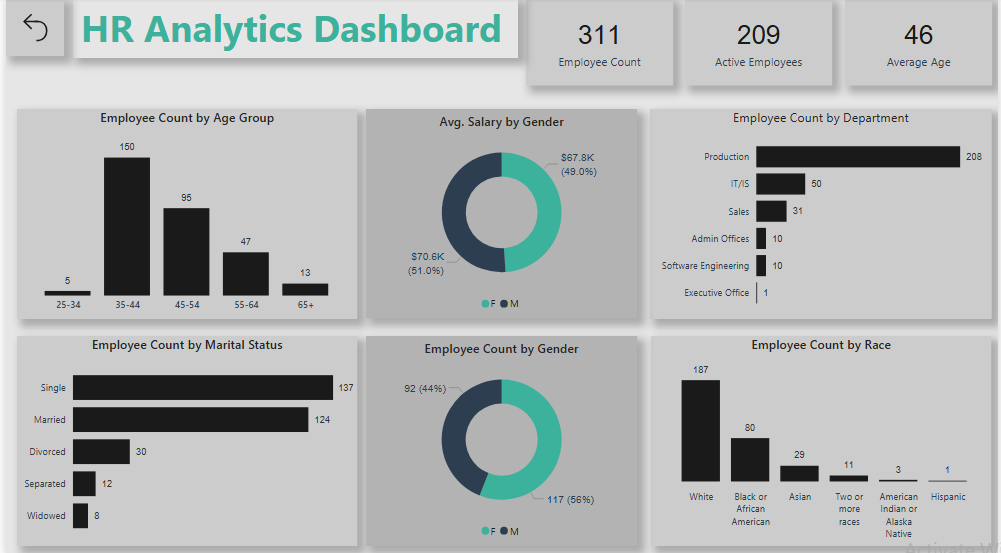

This screenshot's page, from the dashboard's own definition file:
{"tool":"powerbi","page":{"name":"Workforce","canvas":[1280,720],"ordinal":0},"visuals":[{"type":"card","fields":{"Values":["CountNonNull(Employee Info.EmpID)"]},"box":[670.4,0,190,113.4],"z":0},{"type":"clusteredBarChart","title":"Employee Count by Marital Status","fields":{"Category":["Employee Info.MaritalDesc"],"Y":["Measure Table.Total Employees"]},"box":[14.2,436.5,439.4,270.7],"z":1000},{"type":"card","fields":{"Values":["CountNonNull(Employee Info.EmpID)"]},"box":[876.6,0,190,113.4],"z":3000},{"type":"clusteredColumnChart","title":"Employee Count by Race","fields":{"Category":["Employee Info.RaceDesc"],"Y":["Measure Table.Total Employees"]},"box":[832,436.5,439.4,270.7],"z":4000},{"type":"donutChart","title":"Employee Count by Gender","fields":{"Category":["Employee Info.Sex"],"Y":["Measure Table.Total Employees"]},"box":[464.9,436.5,350.1,270.7],"z":5000},{"type":"card","fields":{"Values":["Avg(Employee Info.Age)"]},"box":[1082.8,0,190,113.4],"z":6000},{"type":"textbox","box":[86.5,0,574,76.5],"z":7000},{"type":"clusteredBarChart","title":"Employee Count by Department","fields":{"Category":["Department.Department"],"Y":["CountNonNull(Fact Table.EmpID)"]},"box":[830.6,143.1,440.8,270.7],"z":7001},{"type":"clusteredColumnChart","title":"Employee Count by Age Group","fields":{"Category":["Employee Info.Age Group"],"Y":["CountNonNull(Fact Table.EmpID)"]},"box":[14.2,143.1,439.4,270.7],"z":7002},{"type":"actionButton","title":"Clear All","box":[0,0,75.1,75],"z":7003},{"type":"donutChart","title":"Avg. Salary by Gender","fields":{"Category":["Employee Info.Sex"],"Y":["Avg(Fact Table.Salary)"]},"box":[464.9,143.1,350.1,270],"z":7004}]}

Visuals, with their boxes in screenshot pixels (x1, y1, x2, y2), scaled from the page's 1280x720 canvas onto the 1001x553 screenshot:
card - CountNonNull(Employee Info.EmpID): box(524, 0, 673, 87)
"Employee Count by Marital Status" clusteredBarChart: box(11, 335, 355, 543)
card - CountNonNull(Employee Info.EmpID): box(686, 0, 834, 87)
"Employee Count by Race" clusteredColumnChart: box(651, 335, 994, 543)
"Employee Count by Gender" donutChart: box(364, 335, 637, 543)
card - Avg(Employee Info.Age): box(847, 0, 995, 87)
textbox: box(68, 0, 517, 59)
"Employee Count by Department" clusteredBarChart: box(650, 110, 994, 318)
"Employee Count by Age Group" clusteredColumnChart: box(11, 110, 355, 318)
"Clear All" actionButton: box(0, 0, 59, 58)
"Avg. Salary by Gender" donutChart: box(364, 110, 637, 317)
